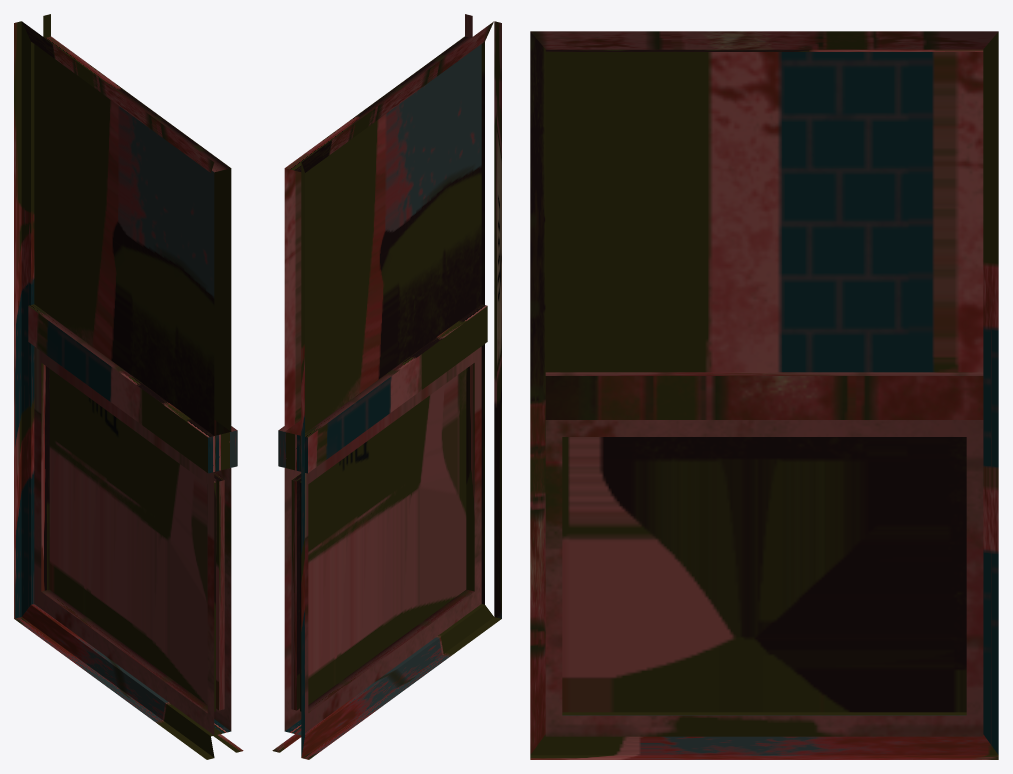
Rendered from JANELA DA PAREDE 3M UMA JANELA.fbx.
The picture shows the model from 3 angles, left to right: view 1: azimuth 30°, elevation 25°; view 2: azimuth 150°, elevation 25°; view 3: azimuth 270°, elevation 25°; orthographic projection. The views are drawn at different scales.
Visible parts, largest first — view 1: Cube.015; view 2: Cube.015; view 3: Cube.015.
Boxes of the visible parts, bbox=[...] form: Cube.015: bbox=[14, 14, 243, 759]; Cube.015: bbox=[272, 14, 501, 759]; Cube.015: bbox=[530, 31, 998, 759].
Bounding box in the file's own units: 10 × 154 × 90.12.
